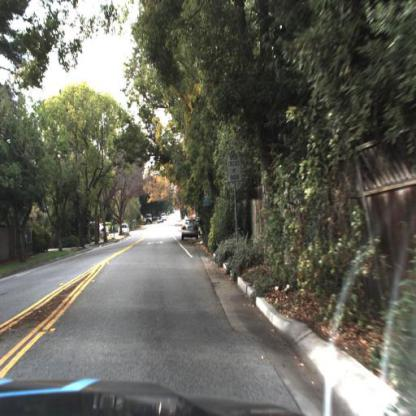car: (180, 215, 202, 243), (180, 215, 199, 242)
